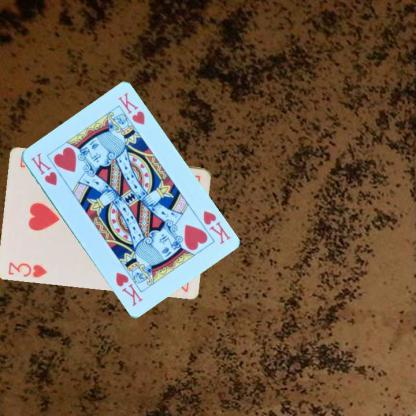3h: (6, 260, 48, 278)
Kh: (200, 207, 232, 247), (28, 150, 58, 187)
